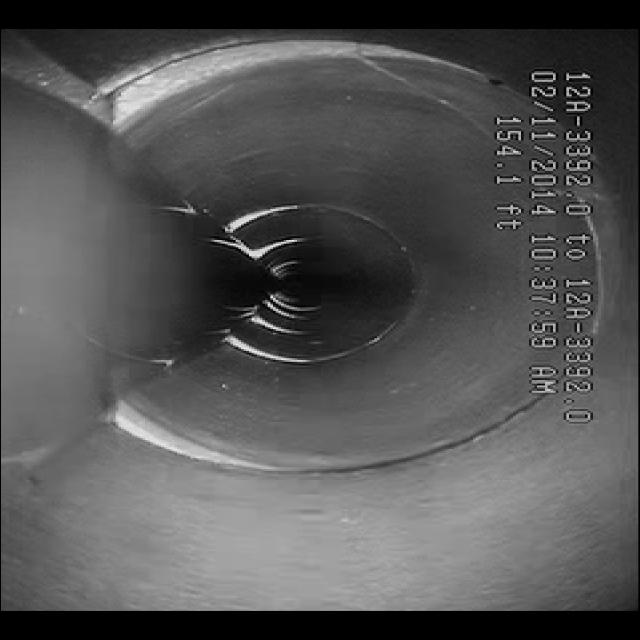Crack: (356, 61, 488, 140)
